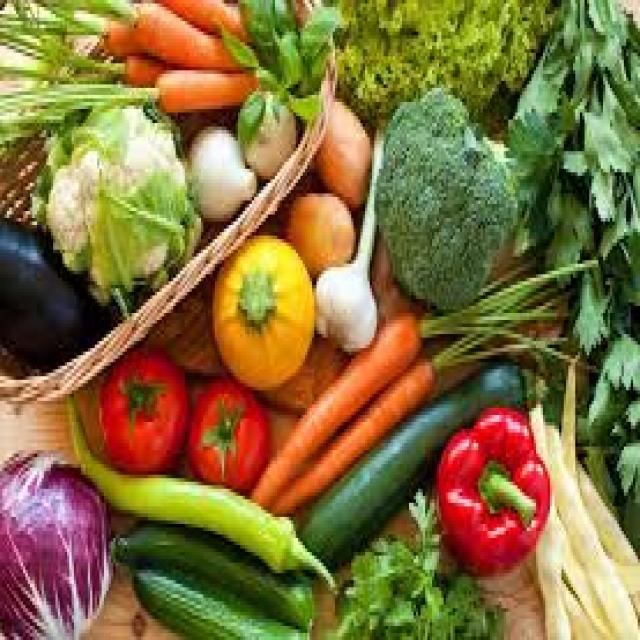organic waste: (503, 0, 637, 506), (62, 394, 338, 591), (293, 355, 543, 570), (247, 306, 418, 506), (372, 81, 513, 306), (26, 105, 187, 302), (328, 482, 504, 636), (275, 352, 434, 510), (323, 0, 554, 105), (106, 517, 312, 633), (540, 408, 638, 636), (0, 443, 111, 637), (437, 401, 550, 573), (312, 112, 381, 352), (210, 228, 312, 390), (418, 246, 596, 338), (0, 214, 106, 365), (432, 288, 598, 373), (129, 559, 305, 637), (0, 60, 254, 112), (570, 460, 638, 636), (95, 344, 187, 468), (0, 14, 169, 77), (81, 0, 238, 67), (522, 398, 566, 636), (531, 517, 638, 608), (187, 373, 268, 489), (0, 0, 148, 53), (183, 123, 254, 218), (275, 190, 353, 274), (310, 95, 370, 200), (236, 88, 296, 172), (153, 0, 250, 42), (554, 344, 580, 496), (238, 0, 296, 67), (547, 183, 587, 274), (502, 109, 548, 176), (598, 77, 636, 155), (598, 320, 638, 390), (587, 105, 624, 176), (296, 0, 337, 60), (219, 18, 259, 66), (589, 373, 617, 429), (614, 432, 638, 496), (236, 95, 263, 144), (404, 485, 432, 531), (280, 32, 302, 88), (280, 88, 314, 116), (619, 394, 638, 425), (256, 64, 275, 92)
